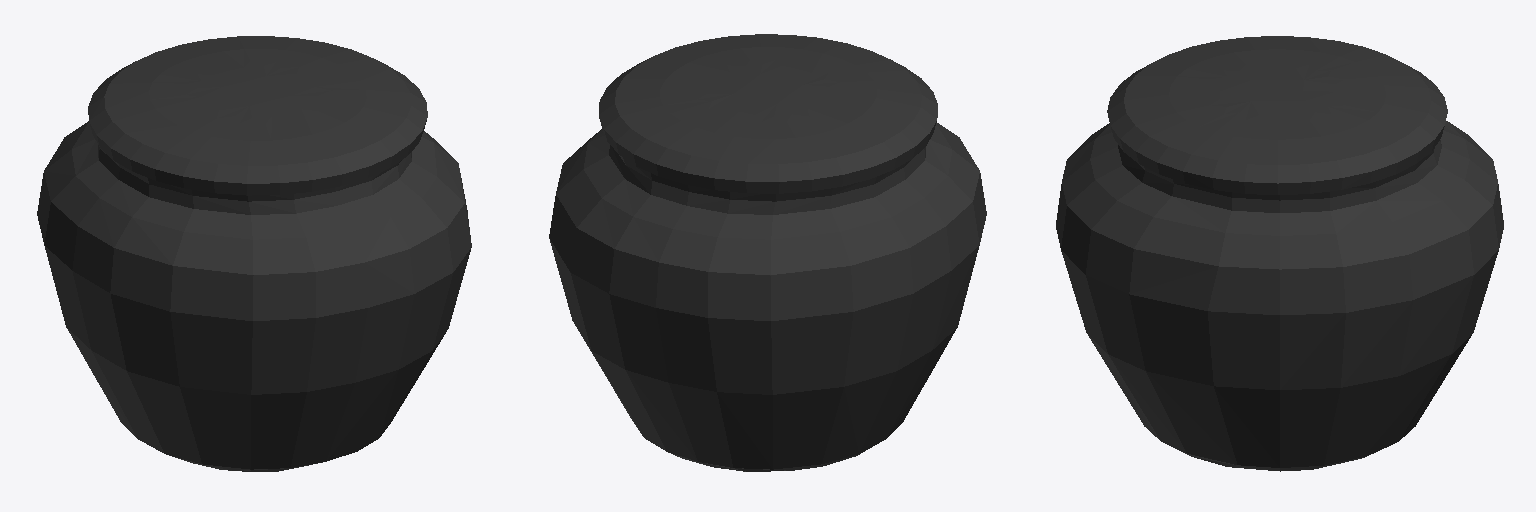
File: Honey_Black.obj
3 renders of one model, left to right at view 1: azimuth 30°, elevation 25°; view 2: azimuth 150°, elevation 25°; view 3: azimuth 270°, elevation 25°, orthographic.
Size of the model in its own units: 0.3506 by 0.302 by 0.3708.